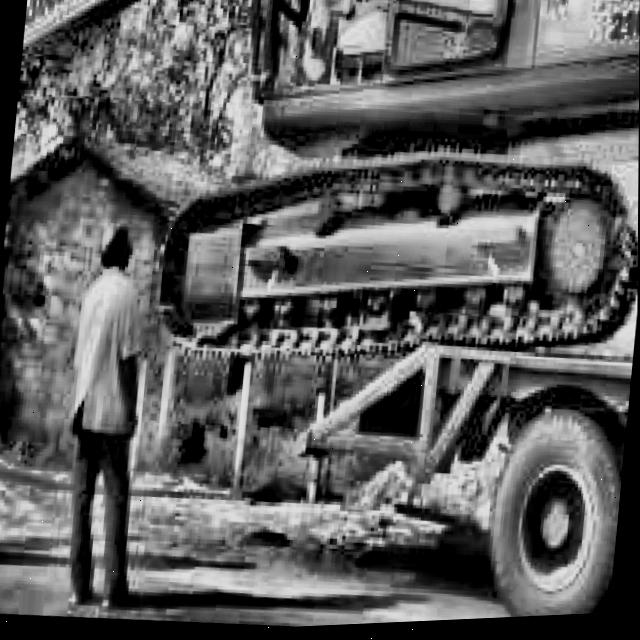excavator: (0, 0, 640, 553)
